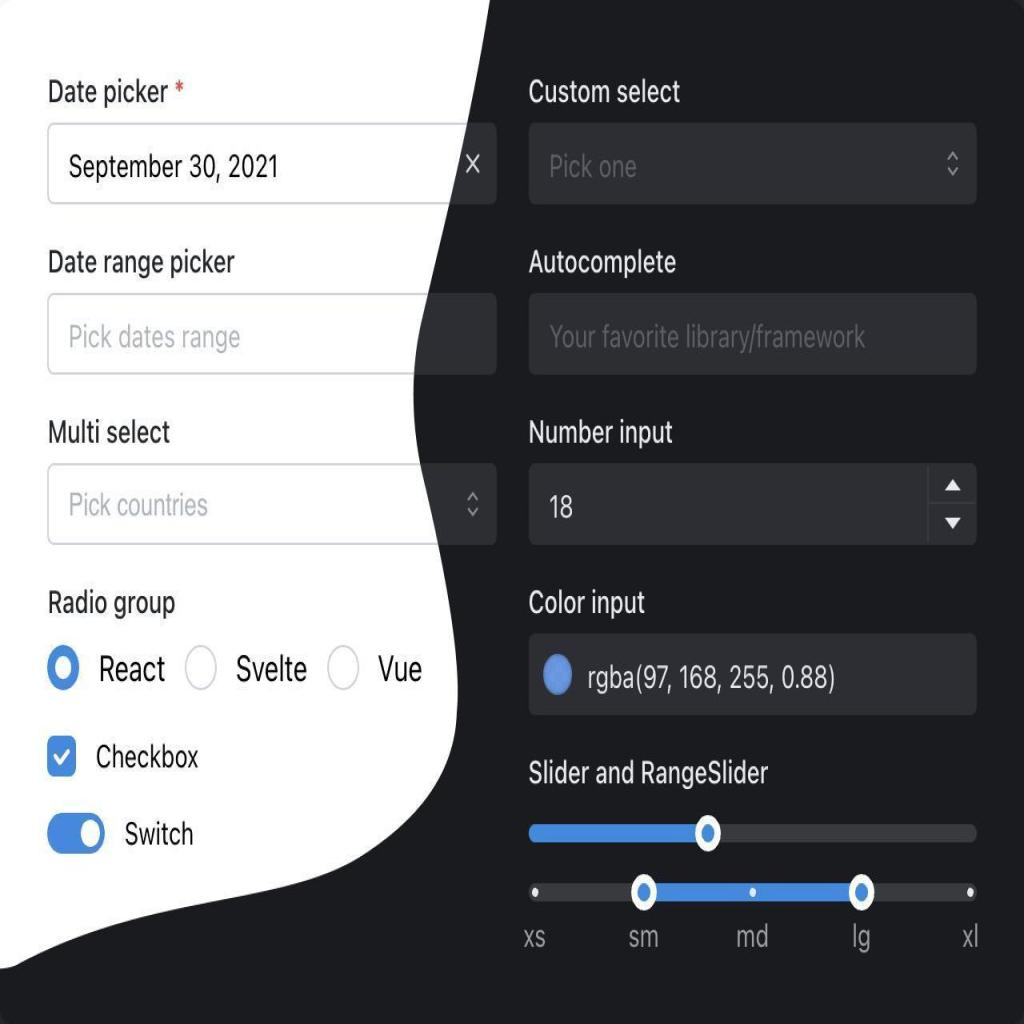button: (931, 505, 981, 546), (930, 464, 981, 503)
checkbox: (46, 736, 78, 778)
dropdown: (45, 459, 498, 548), (530, 117, 976, 207)
input: (50, 125, 496, 209), (48, 294, 493, 376), (529, 300, 979, 379), (530, 460, 928, 549)
label: (528, 753, 774, 799), (37, 66, 194, 113), (528, 69, 685, 115), (47, 249, 236, 285), (525, 413, 680, 454), (41, 408, 173, 454), (522, 582, 657, 624), (524, 248, 680, 282), (96, 734, 208, 776), (43, 590, 180, 624), (96, 648, 169, 688), (234, 652, 308, 690), (123, 812, 193, 849), (374, 650, 426, 688)
radio: (40, 642, 90, 698), (179, 637, 227, 694), (320, 640, 368, 697)
switch: (43, 806, 108, 857)
